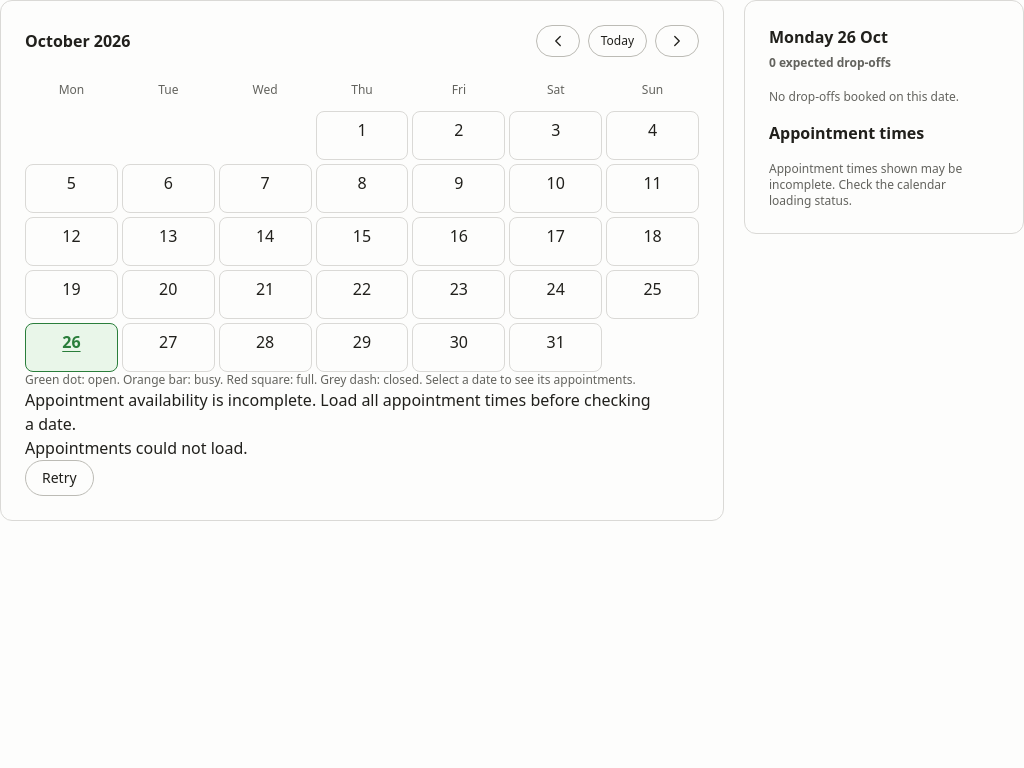
exposes failed window recovery and pagination without claiming dates are empty
Expected: the message "Appointments could not load. Retry" is shown, [25, 437, 248, 496]
Expected: the text "No appointment times on this date." is not shown
What coordinates should you click on to do the following:
click the button "Retry"
I would click on:
 (59, 478)
Its box is [25, 460, 94, 496].
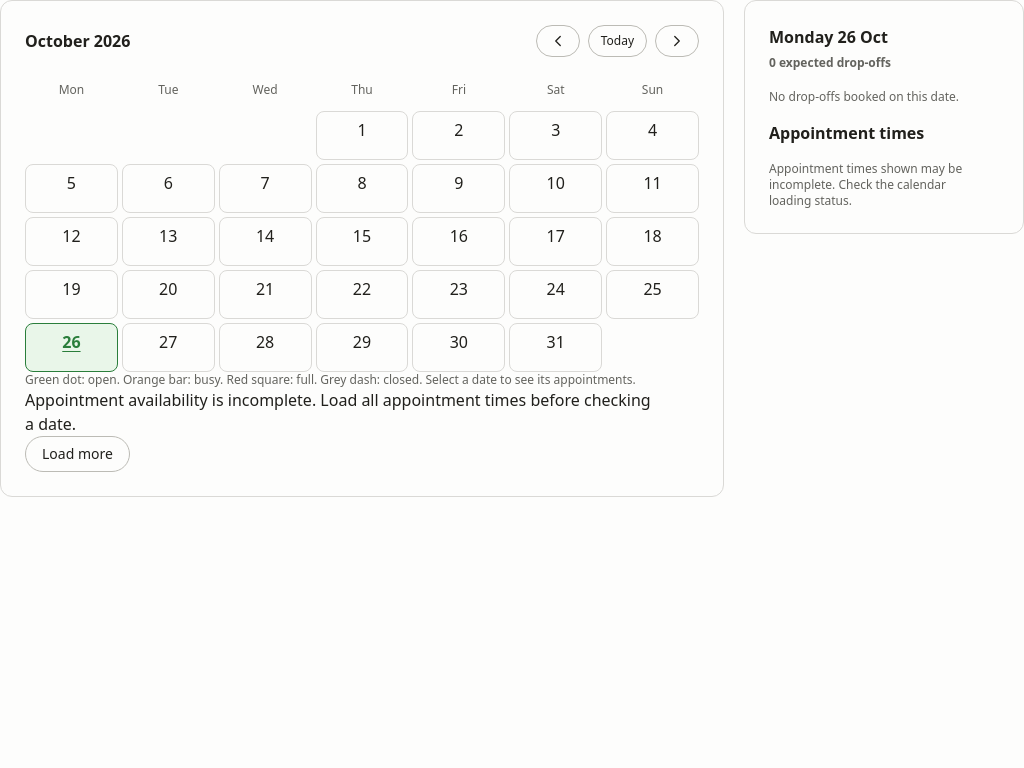
What coordinates should you click on to do the following:
click the button "Load more"
I would click on:
 (77, 454)
Its box is [25, 436, 130, 472].
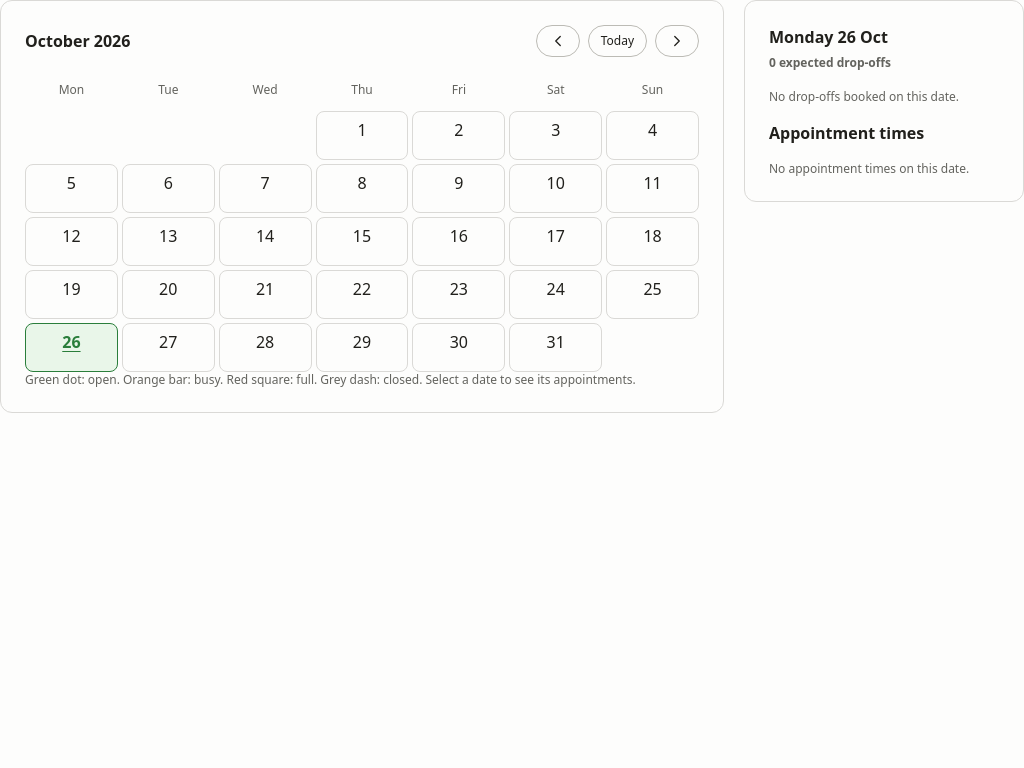
Now the text "No appointment times on this date." is shown, box [769, 161, 999, 177]
Now the text "Appointment availability is incomplete" is gone
